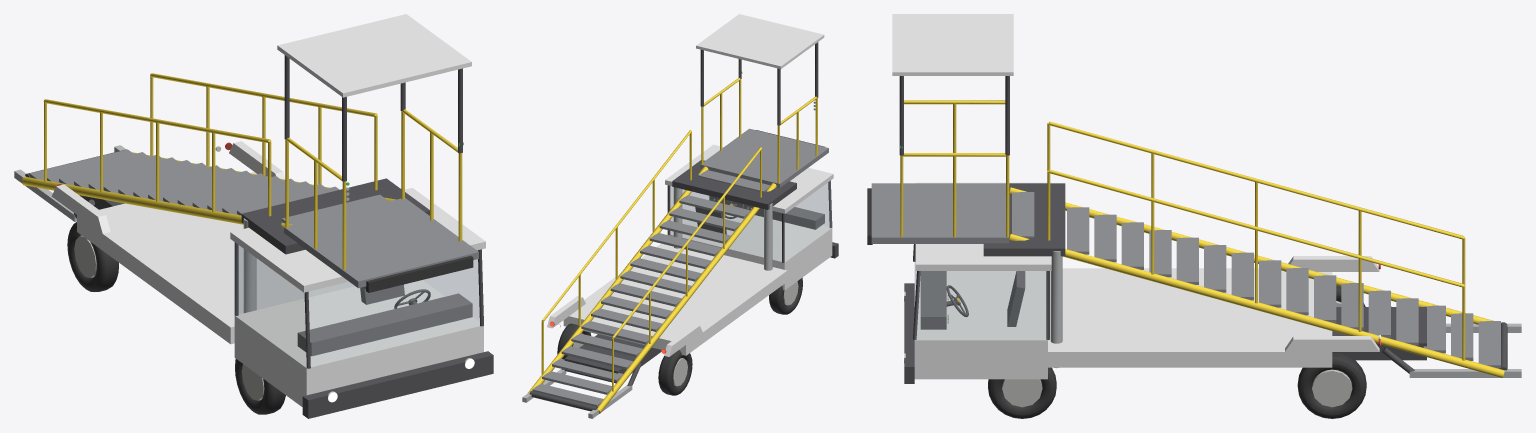
File: PassengerStairs.glb
3 renders of one model, left to right at view 1: azimuth 30°, elevation 25°; view 2: azimuth 150°, elevation 25°; view 3: azimuth 270°, elevation 25°, orthographic. The views are drawn at different scales.
Parts seen in each view (by area): view 1: Body, StairPlatform, StairFlight, Wheel_RR, Wheel_FR, PlatformExtension, Tread_00, Tread_12, Tread_08, Tread_11, Tread_16, Tread_07 (+10 smaller); view 2: Body, StairPlatform, StairFlight, Wheel_RR, Wheel_FR, Tread_16, Tread_13, Tread_14, Tread_05, Tread_12, Tread_17, Tread_03 (+11 smaller); view 3: Body, StairPlatform, StairFlight, Wheel_RL, Wheel_FL, Tread_03, Tread_08, Tread_02, Tread_09, Tread_11, Tread_14, Tread_07 (+10 smaller).
Part boxes in pixels (x1,y1,x2,y2): Body: (14, 141, 493, 418); StairPlatform: (241, 14, 478, 288); StairFlight: (21, 73, 395, 227); Wheel_RR: (67, 222, 118, 291); Wheel_FR: (235, 359, 285, 414); PlatformExtension: (363, 256, 473, 292); Tread_00: (281, 194, 388, 224); Tread_12: (103, 162, 207, 193); Tread_08: (163, 173, 267, 204); Tread_11: (118, 165, 222, 196); Tread_16: (47, 152, 148, 182); Tread_07: (177, 176, 281, 206); Body: (522, 144, 838, 418); StairPlatform: (672, 14, 828, 209); StairFlight: (528, 130, 776, 413); Wheel_RR: (658, 350, 692, 395); Wheel_FR: (769, 277, 802, 314); Tread_16: (542, 371, 611, 394); Tread_13: (571, 333, 642, 356); Tread_14: (561, 346, 632, 369); Tread_05: (649, 233, 720, 256); Tread_12: (581, 321, 652, 344); Tread_17: (532, 384, 603, 406); Tread_03: (669, 207, 740, 231); Body: (904, 182, 1521, 383); StairPlatform: (871, 14, 1065, 368); StairFlight: (1009, 121, 1507, 377); Wheel_RL: (1297, 352, 1366, 418); Wheel_FL: (988, 367, 1056, 418); Tread_03: (1094, 214, 1116, 262); Tread_08: (1231, 252, 1253, 300); Tread_02: (1067, 207, 1089, 254); Tread_09: (1259, 260, 1281, 307); Tread_11: (1314, 275, 1336, 322); Tread_14: (1396, 298, 1418, 345); Tread_07: (1204, 245, 1226, 292).
Size of what is drawn, in the model's own units: 2.3 by 4.34 by 7.6.
